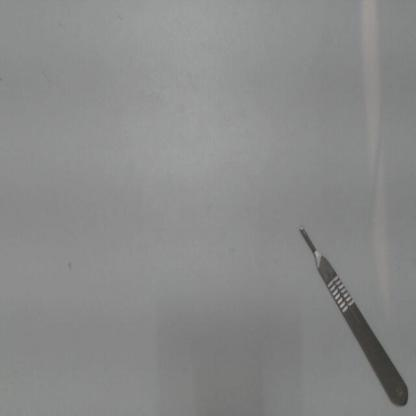No.3 BP Handle: (280, 205, 410, 412)
